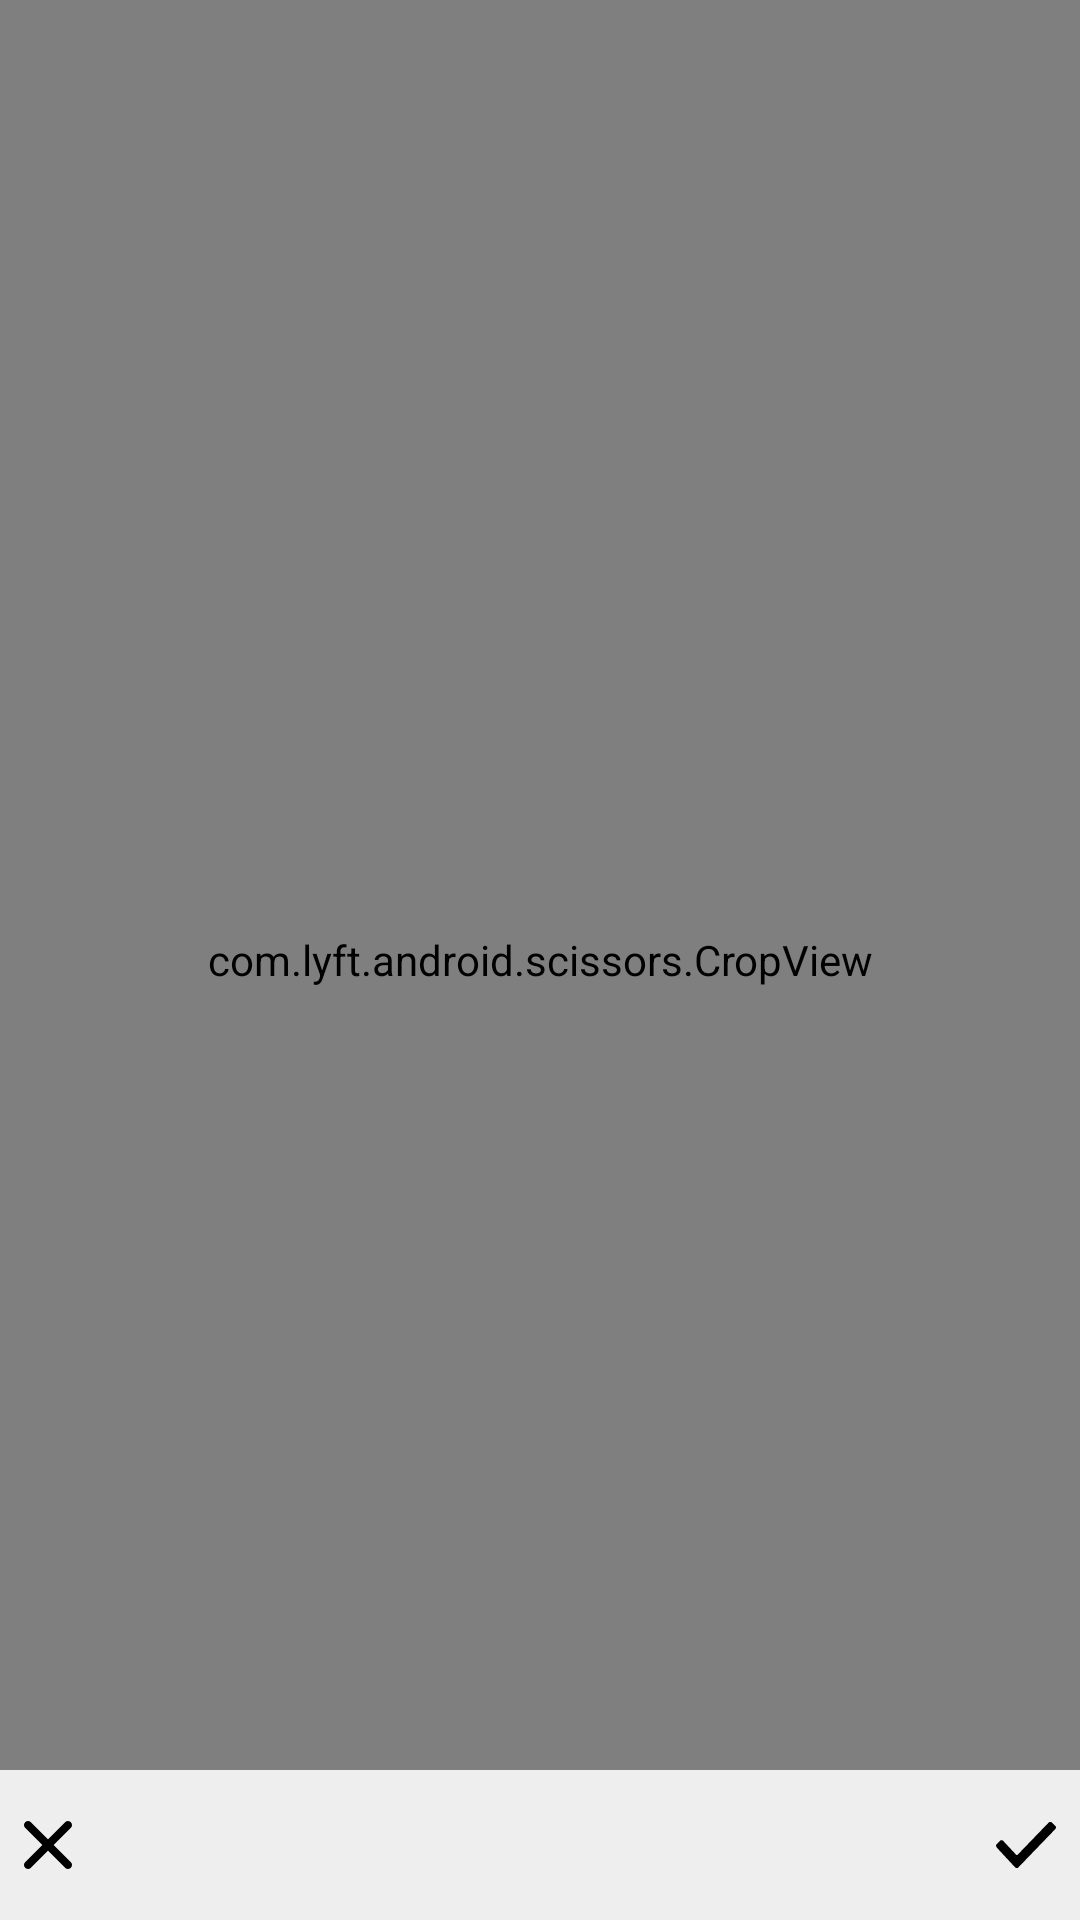

Screen size 1080 x 1920. Icon name, then its box in pixels as (x1, y1, x2, y2):
remove: (24, 1821, 72, 1869)
tick: (996, 1822, 1056, 1868)
